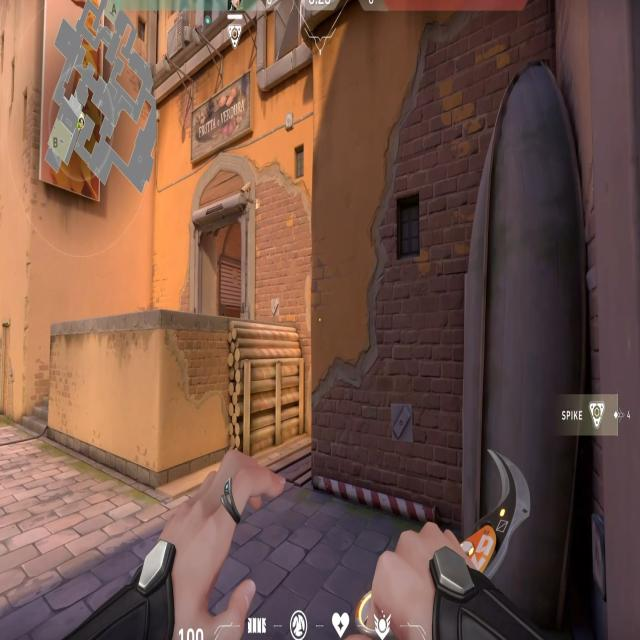B_Cubby: (158, 300, 318, 486)
